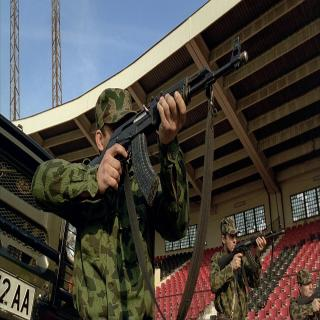gun: (70, 24, 247, 207)
